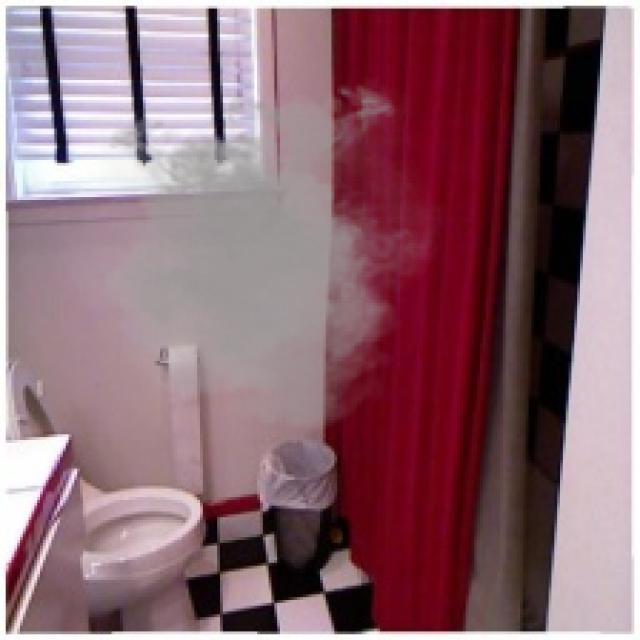smoke: (49, 74, 454, 434)
